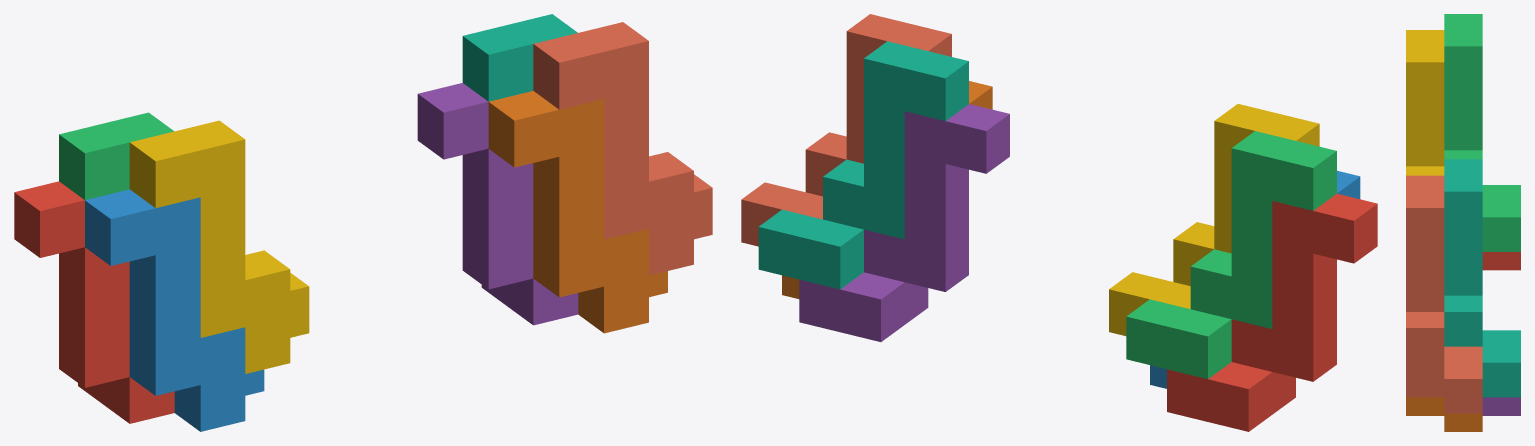
The model's file is tiling.obj.
3 renders of one model, left to right at view 1: azimuth 30°, elevation 25°; view 2: azimuth 150°, elevation 25°; view 3: azimuth 270°, elevation 25°, orthographic. The views are drawn at different scales.
Visible parts, largest first — view 1: copy_1_domain_2, copy_1_domain_6, copy_1_domain_4, copy_1_domain_8, copy_1_domain_5, copy_1_domain_1, copy_1_domain_7, copy_1_domain_3; view 2: copy_1_domain_1, copy_1_domain_5, copy_1_domain_3, copy_1_domain_7, copy_1_domain_8, copy_1_domain_4, copy_1_domain_6, copy_1_domain_2; view 3: copy_1_domain_8, copy_1_domain_7, copy_1_domain_3, copy_1_domain_4, copy_1_domain_6, copy_1_domain_5, copy_1_domain_1.
Part boxes in pixels (box(x1,y1,x2,y2)): copy_1_domain_2: box(85, 189, 264, 431); copy_1_domain_6: box(488, 91, 667, 333); copy_1_domain_4: box(129, 120, 309, 373); copy_1_domain_8: box(533, 22, 712, 275); copy_1_domain_5: box(417, 83, 578, 325); copy_1_domain_1: box(14, 181, 174, 423); copy_1_domain_7: box(462, 14, 577, 101); copy_1_domain_3: box(59, 112, 174, 199); copy_1_domain_1: box(1167, 193, 1377, 431); copy_1_domain_5: box(799, 104, 1009, 341); copy_1_domain_3: box(1126, 131, 1336, 378); copy_1_domain_7: box(758, 41, 968, 289); copy_1_domain_8: box(741, 14, 951, 246); copy_1_domain_4: box(1109, 104, 1319, 335); copy_1_domain_6: box(782, 81, 992, 298); copy_1_domain_2: box(1150, 170, 1360, 388); copy_1_domain_8: box(1406, 175, 1482, 413); copy_1_domain_7: box(1444, 159, 1520, 397); copy_1_domain_3: box(1444, 14, 1520, 251); copy_1_domain_4: box(1406, 30, 1444, 175); copy_1_domain_6: box(1406, 397, 1482, 431); copy_1_domain_5: box(1482, 397, 1520, 415); copy_1_domain_1: box(1482, 252, 1520, 270).
Bounding box in the file's own units: 15 × 6 × 3.
